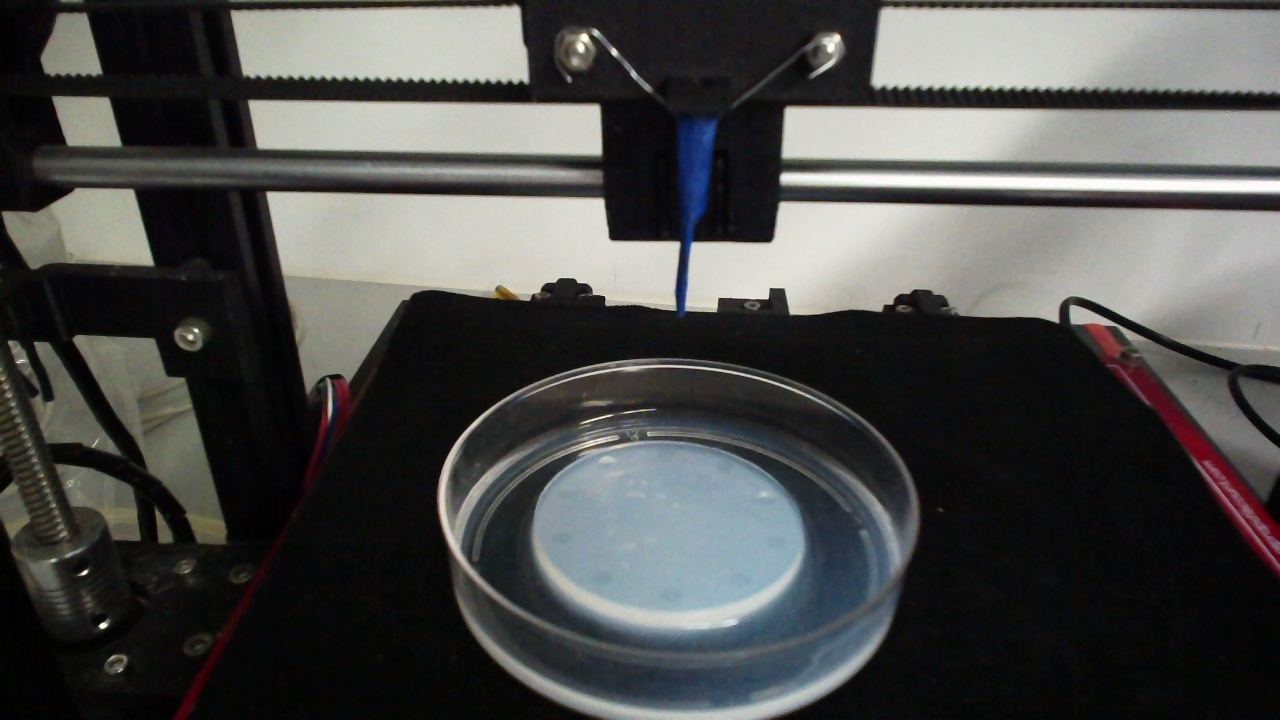groove: (725, 571, 753, 591), (658, 585, 686, 604), (763, 533, 789, 551), (587, 569, 612, 587), (549, 530, 574, 547), (654, 446, 677, 464), (755, 491, 778, 508), (714, 459, 736, 476), (553, 485, 575, 501), (598, 454, 618, 469)
needle: (678, 118, 717, 317)
